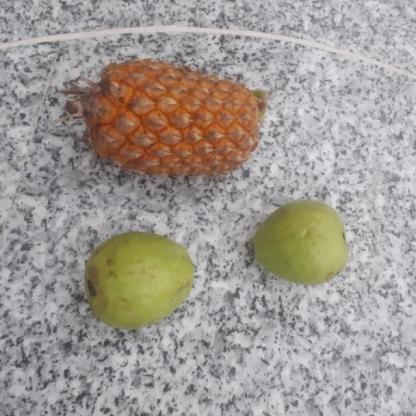guava: (82, 235, 192, 326), (250, 202, 349, 284)
pineapple: (74, 60, 263, 182)
